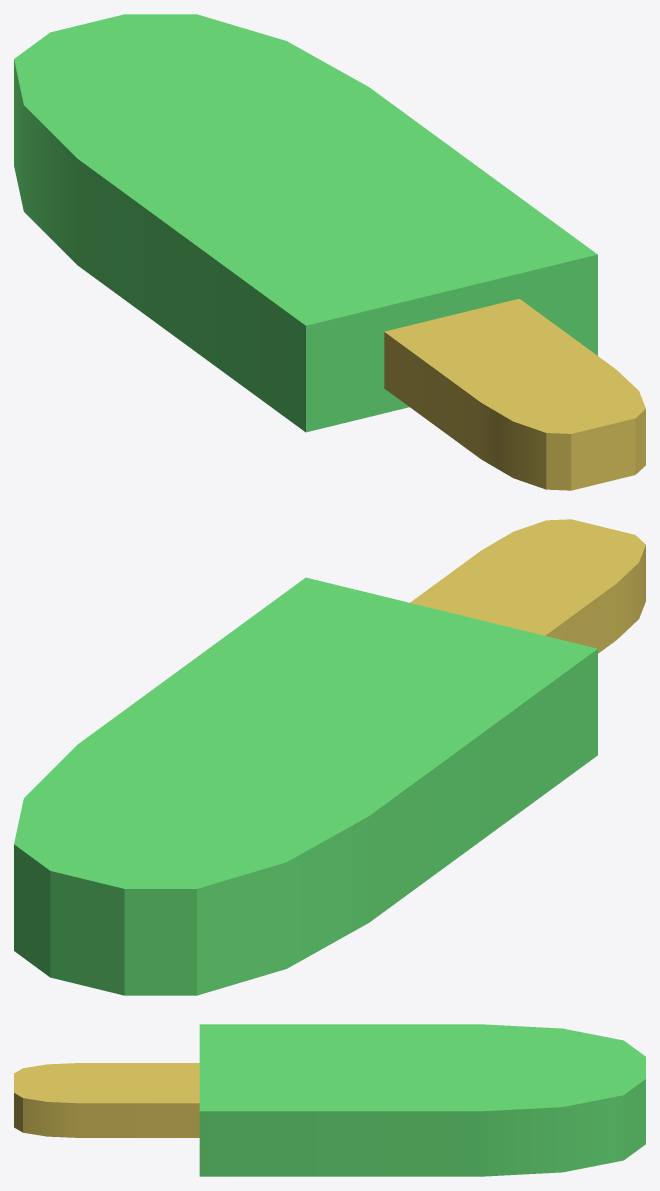
File: 4 ice cream.fbx
3 renders of one model, top to bottom at view 1: azimuth 30°, elevation 25°; view 2: azimuth 150°, elevation 25°; view 3: azimuth 270°, elevation 25°, orthographic. The views are drawn at different scales.
Parts seen in each view (by area): view 1: 4 ice cream; view 2: 4 ice cream; view 3: 4 ice cream.
Boxes of the visible parts, box(x1,y1,x2,y2) form: 4 ice cream: box(14, 14, 645, 490); 4 ice cream: box(14, 519, 645, 995); 4 ice cream: box(14, 1024, 645, 1176).
Size of the model in its own units: 3.83 by 1.34 by 11.74.
